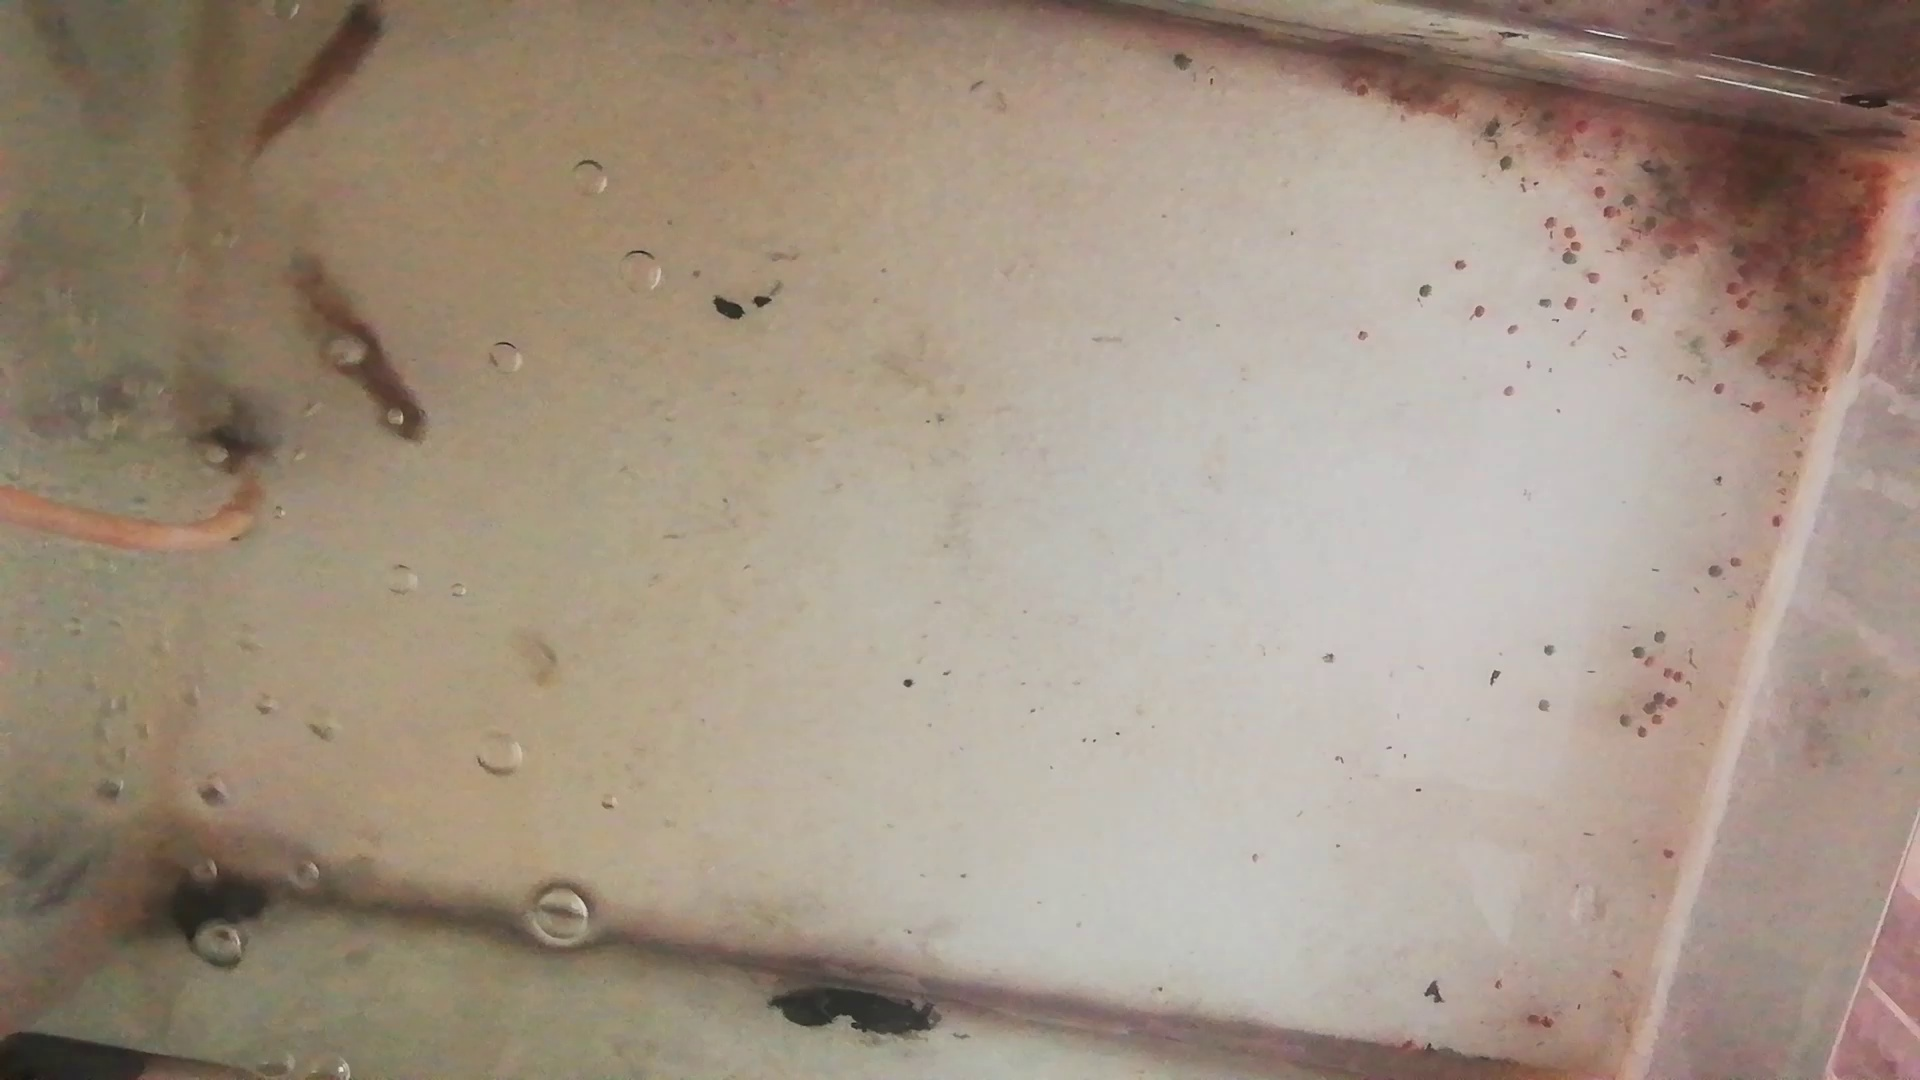fish: (280, 253, 427, 444), (243, 1, 396, 150)
